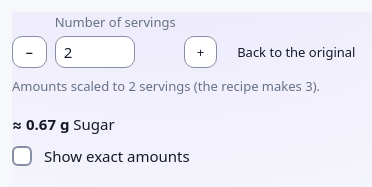
Test: serving scaling › marks rounded amounts as approximate and shows the exact value on request
The width and height of the screenshot is (372, 187).
Expected: the list with test id "recipe-ingredients" reads "≈ 0.67 g Sugar", [12,113,247,134]
Click the checkbox labelled "Show exact amounts" at [22, 156], box [12,146,32,166]
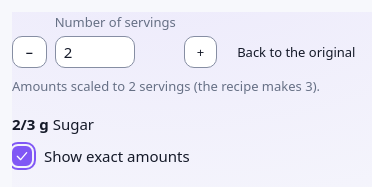
Expected: the list with test id "recipe-ingredients" reads "2/3 g Sugar", [12,114,94,134]
